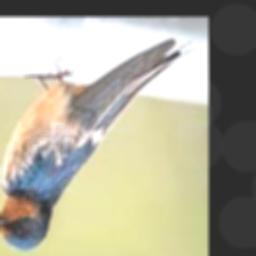Swallow: (0, 38, 193, 253)
